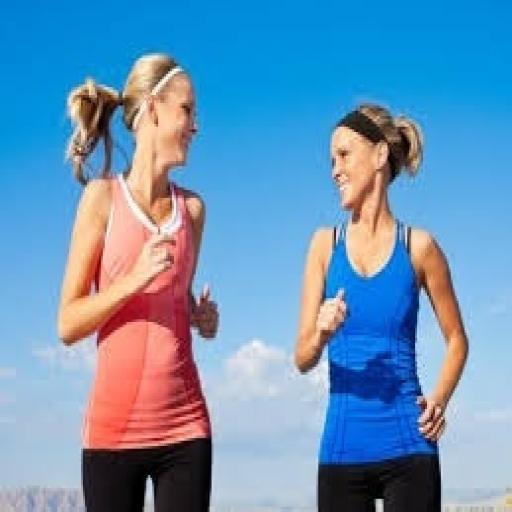running: (56, 48, 222, 510), (292, 100, 472, 510)
